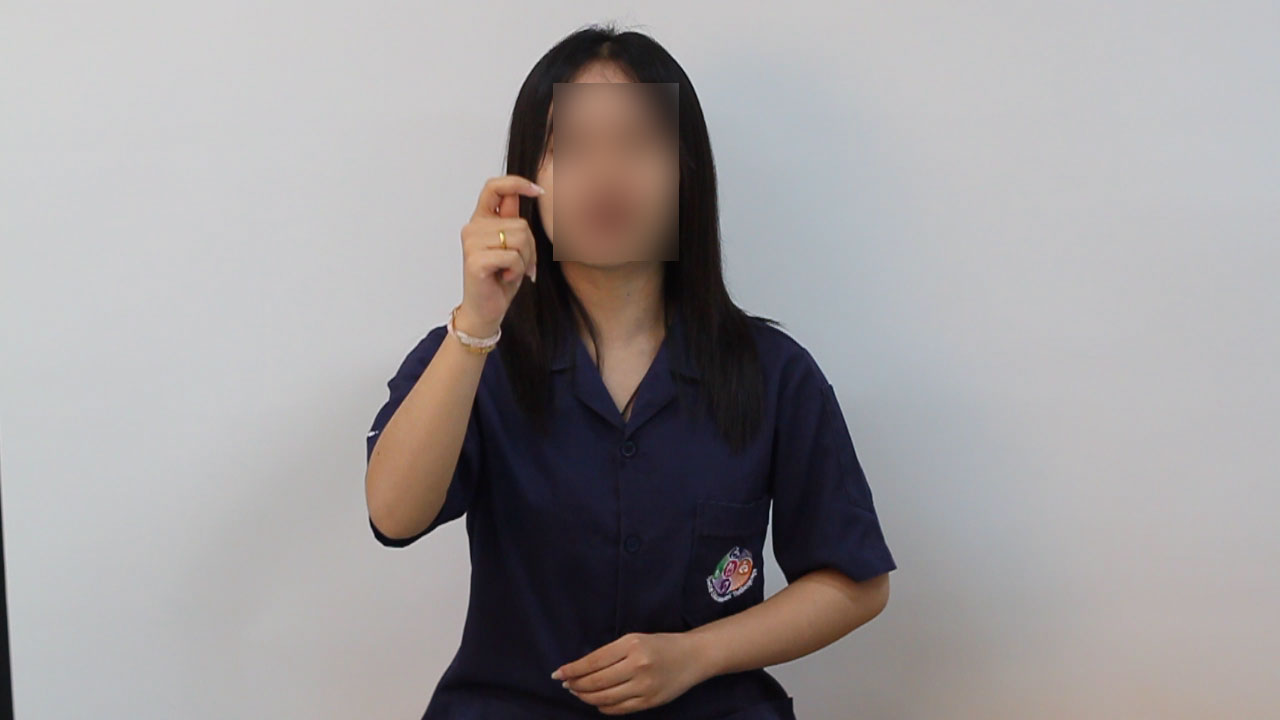or: (449, 169, 549, 333)
